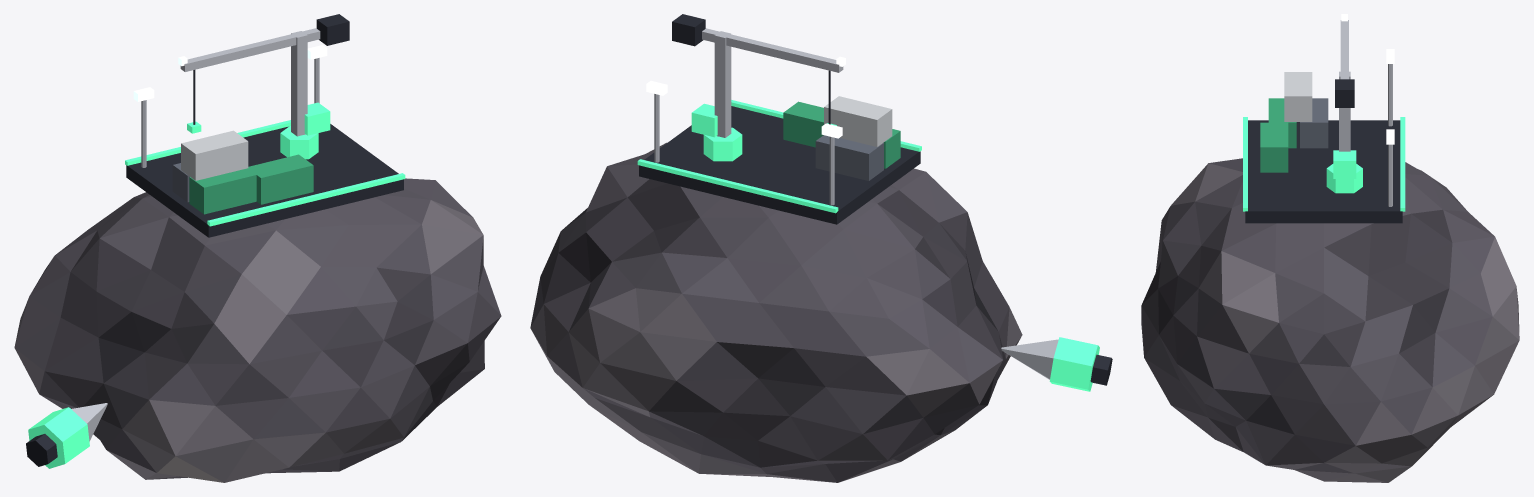
Rendered from asteroid-workshop.glb.
The picture shows the model from 3 angles, left to right: view 1: azimuth 30°, elevation 25°; view 2: azimuth 150°, elevation 25°; view 3: azimuth 270°, elevation 25°; orthographic projection. The views are drawn at different scales.
Visible parts, largest first — view 1: Asteroid, WorkshopDeck, CraneBody, DrillRig; view 2: Asteroid, WorkshopDeck, CraneBody, DrillRig; view 3: Asteroid, WorkshopDeck, CraneBody.
Boxes of the visible parts, left/top/right/bottom form: Asteroid: left=14, top=178, right=501, bottom=482; WorkshopDeck: left=125, top=45, right=405, bottom=237; CraneBody: left=178, top=14, right=349, bottom=159; DrillRig: left=26, top=403, right=107, bottom=468; Asteroid: left=530, top=142, right=1022, bottom=482; WorkshopDeck: left=637, top=80, right=921, bottom=224; CraneBody: left=672, top=14, right=845, bottom=161; DrillRig: left=1001, top=337, right=1112, bottom=391; Asteroid: left=1141, top=158, right=1519, bottom=482; WorkshopDeck: left=1243, top=49, right=1405, bottom=223; CraneBody: left=1326, top=14, right=1362, bottom=193.
Size of the model in its own units: 6.64 by 5.39 by 4.56.
